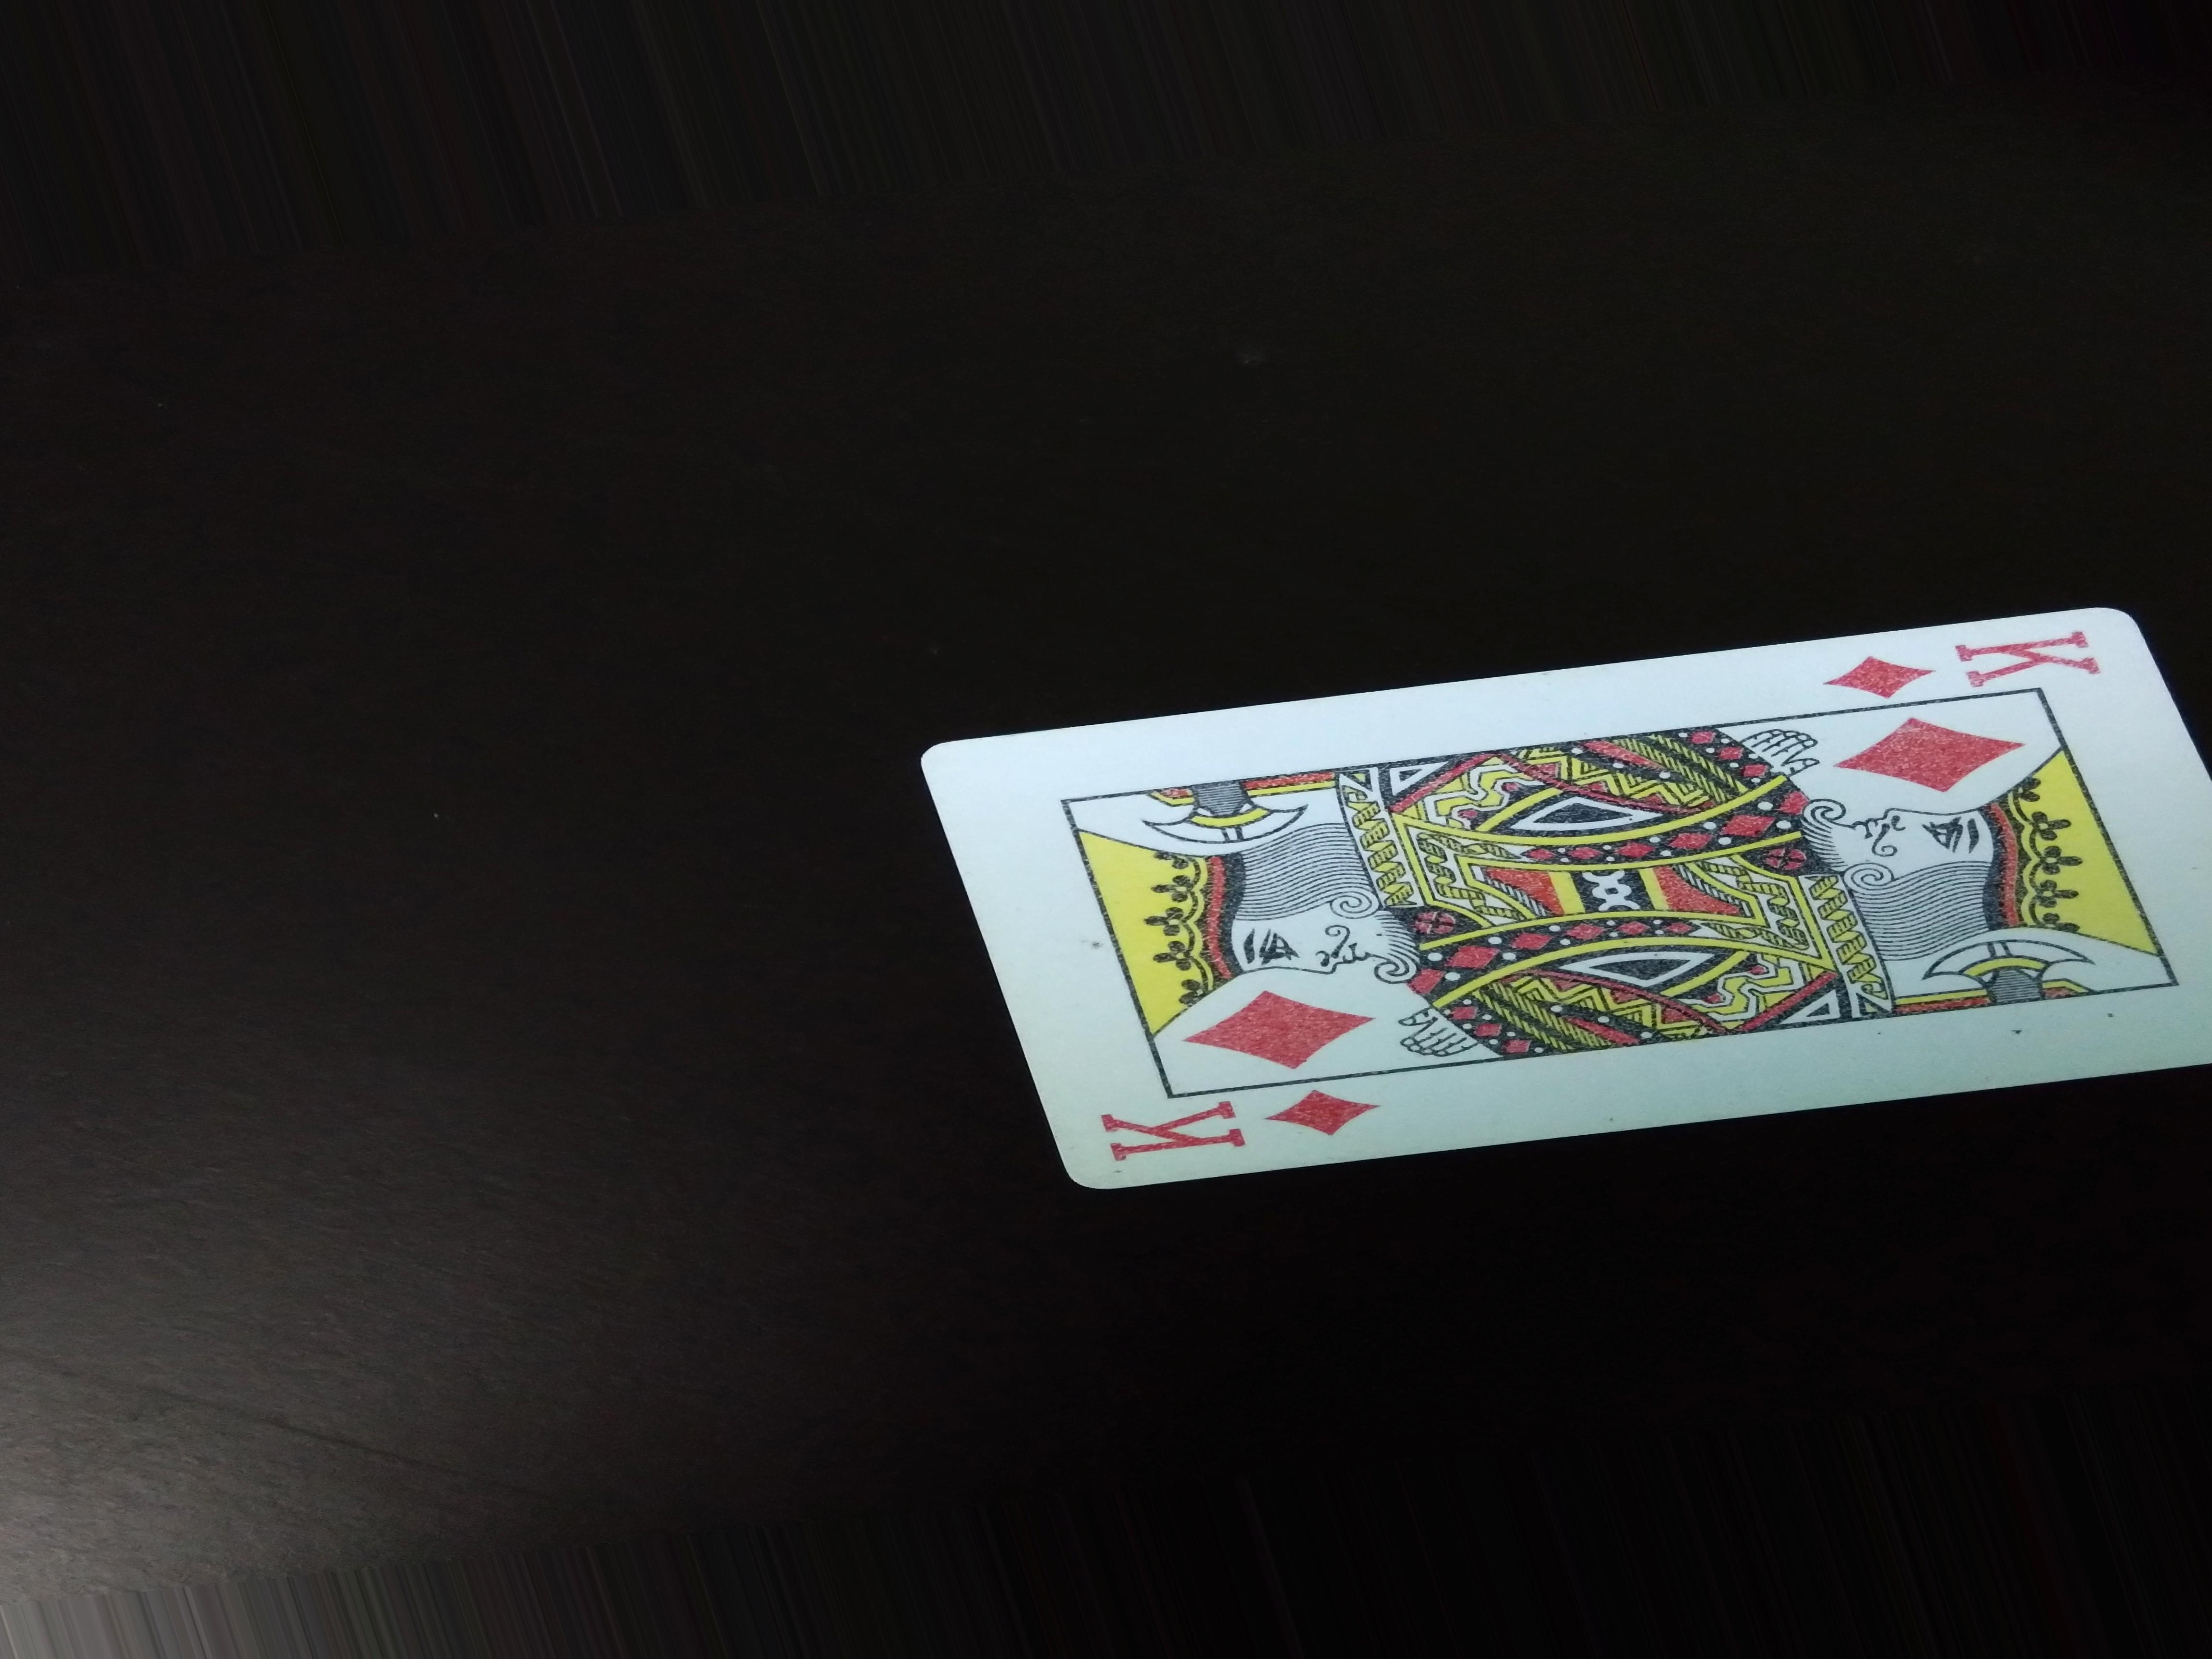KD: (1087, 1082, 1406, 1175)
